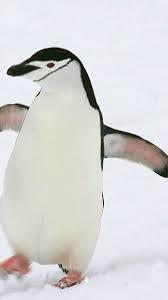chinstrap: (3, 43, 135, 300)
